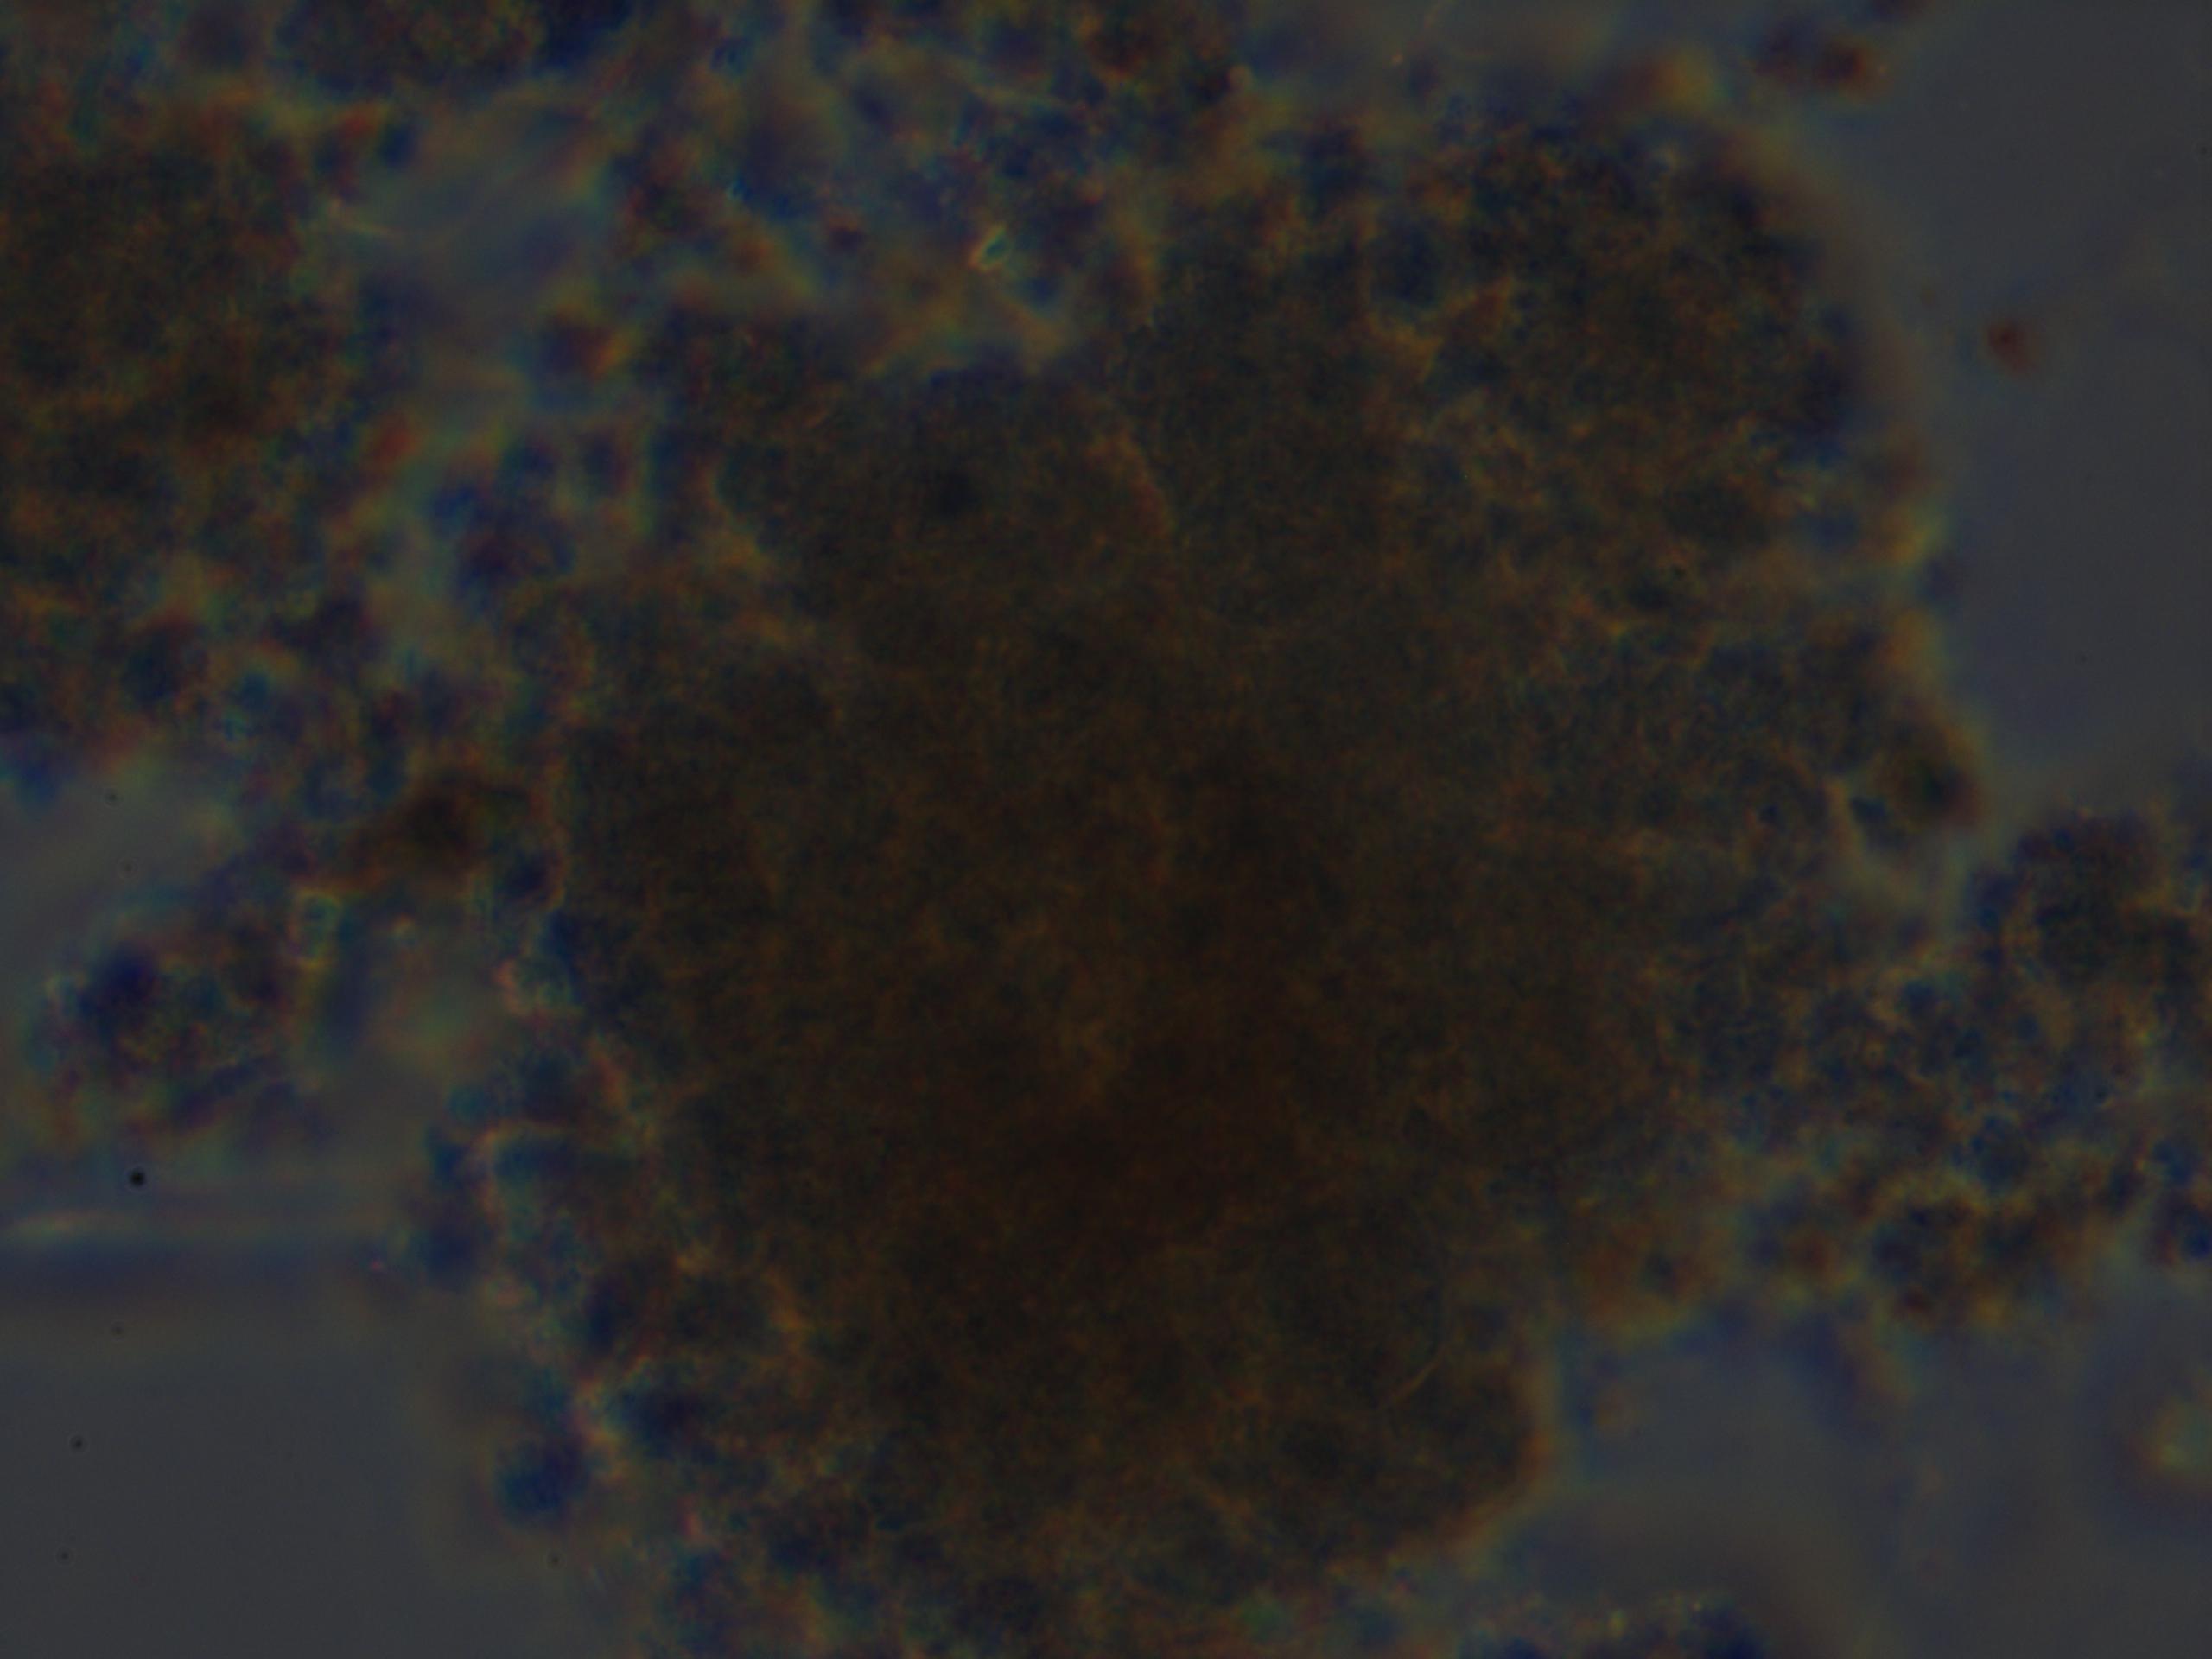spherical_floc: (427, 9, 1986, 1659)
